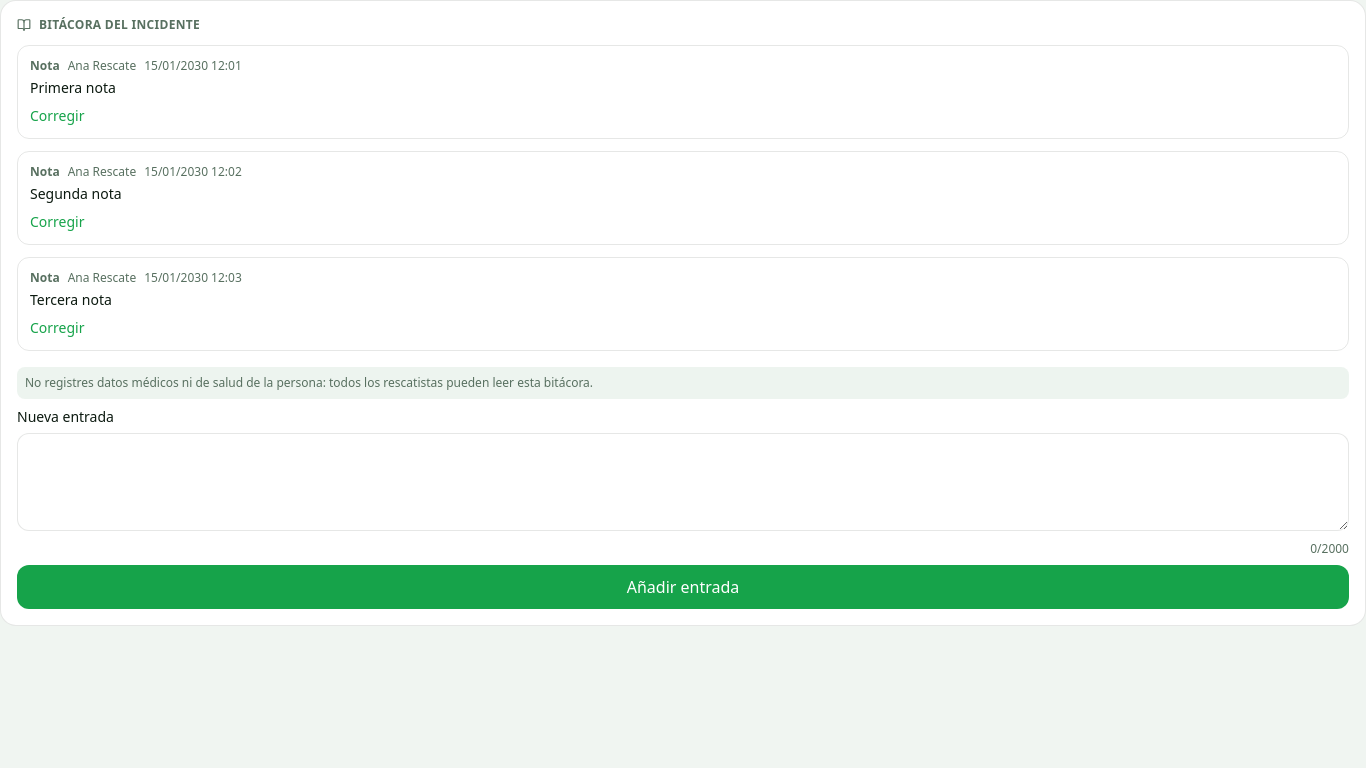
Test: BitacoraIncidente (HU-41) › 409 INCIDENTE_CERRADO avisa, recarga y llama a alCambiarResponsable
Type "Tarde" into the text box labelled "Nueva entrada" at (683, 482), box [17,433,1349,531]
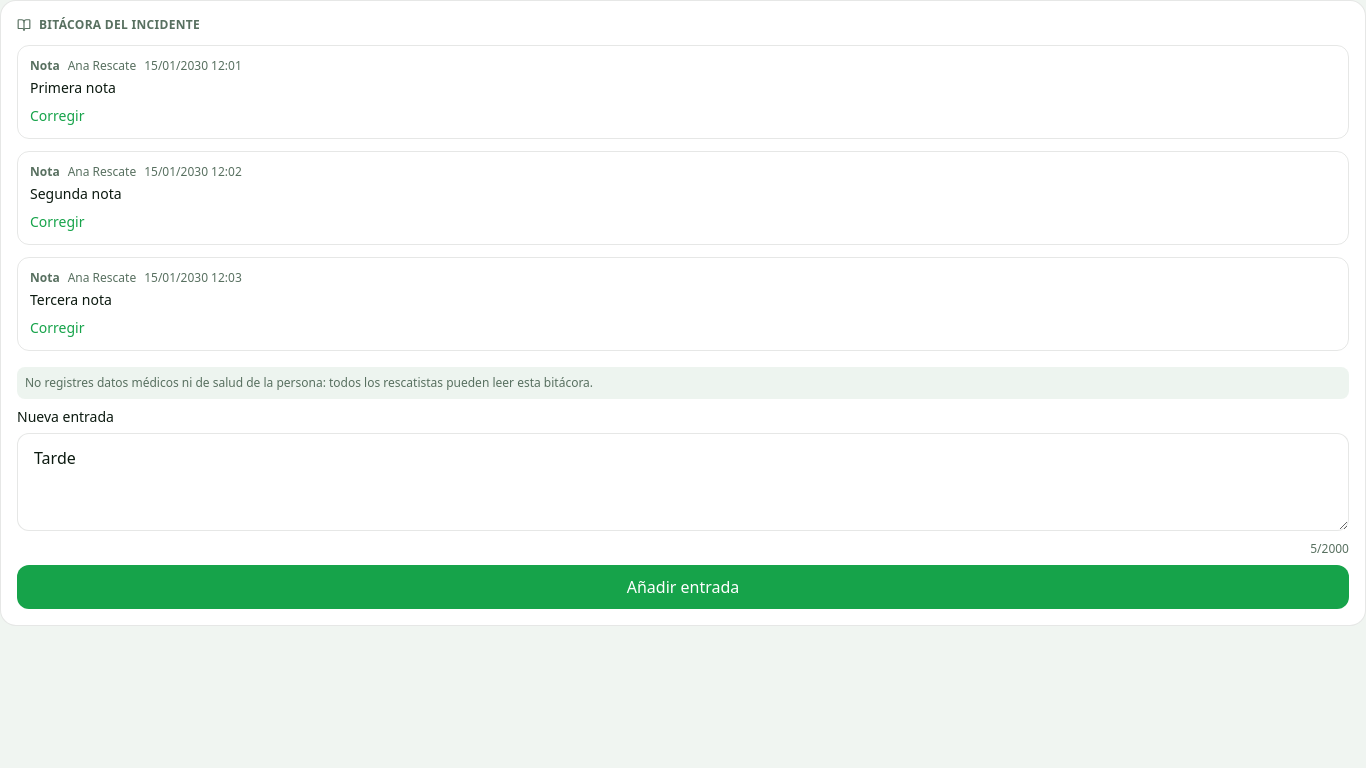
Click the button "Añadir entrada" at (683, 587), box [17,565,1349,609]
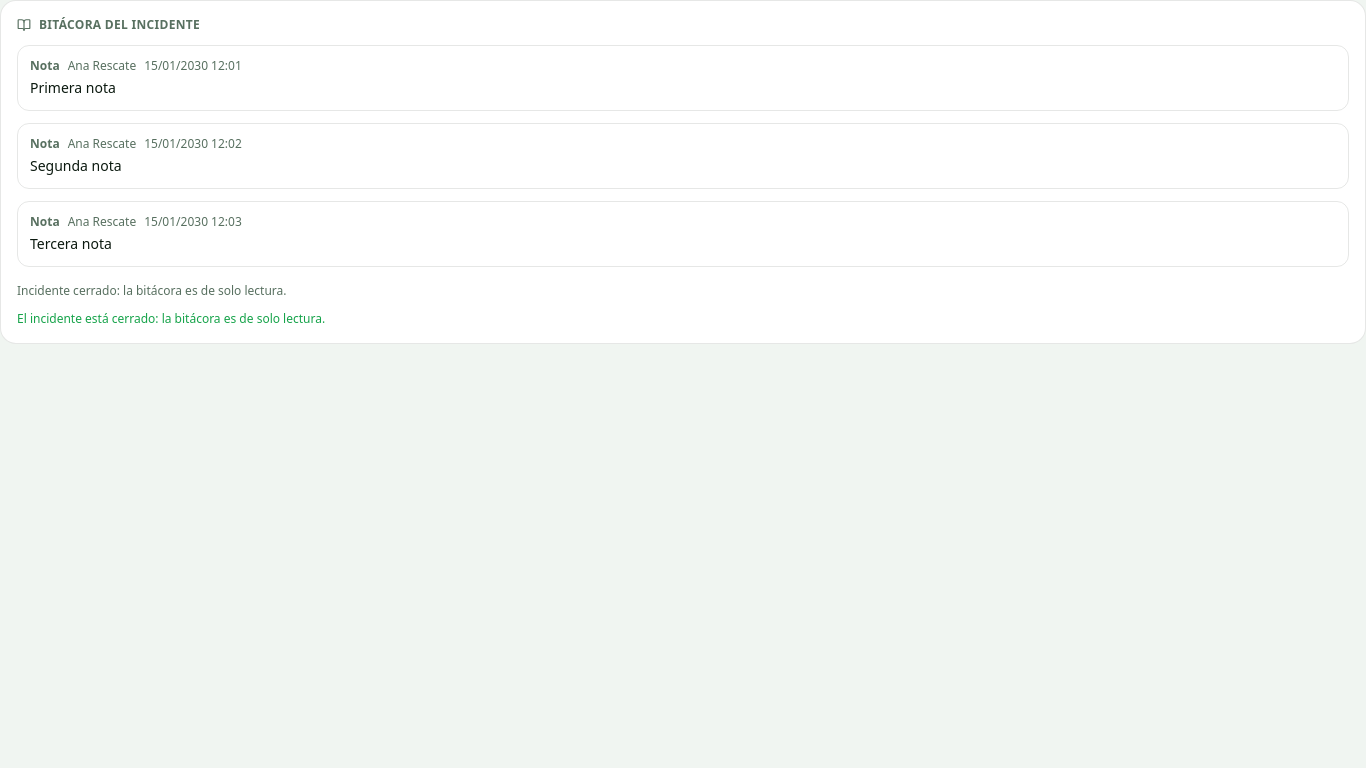
Check: the text "El incidente está cerrado" is shown, box [17,310,325,327]
